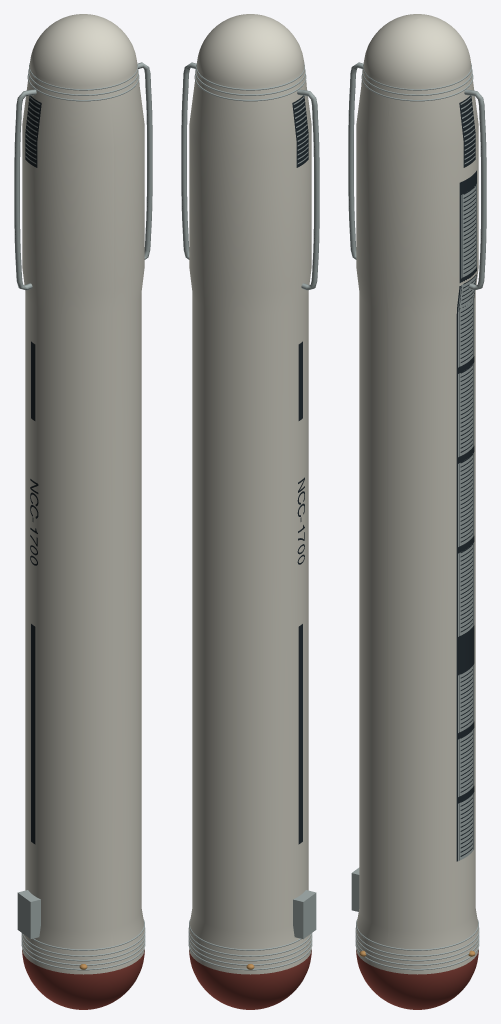
File: nacelle.glb
3 renders of one model, left to right at view 1: azimuth 30°, elevation 25°; view 2: azimuth 150°, elevation 25°; view 3: azimuth 330°, elevation 25°, orthographic.
Visible parts, largest first — view 1: hull surface details, panel surface details, red surface details, dark surface details; view 2: hull surface details, panel surface details, red surface details, dark surface details; view 3: hull surface details, panel surface details, dark surface details, red surface details.
Boxes of the visible parts, x1,y1,x2,y2 form: hull surface details: (22,14,144,974); panel surface details: (14,62,152,970); red surface details: (22,950,144,1009); dark surface details: (25,95,41,844); hull surface details: (189,14,311,974); panel surface details: (181,62,319,970); red surface details: (189,950,311,1009); dark surface details: (292,95,308,844); hull surface details: (356,14,478,974); panel surface details: (348,62,486,970); dark surface details: (456,95,476,861); red surface details: (356,950,478,1009).
Size of the model in its own units: 22.38 by 154 by 17.52.
